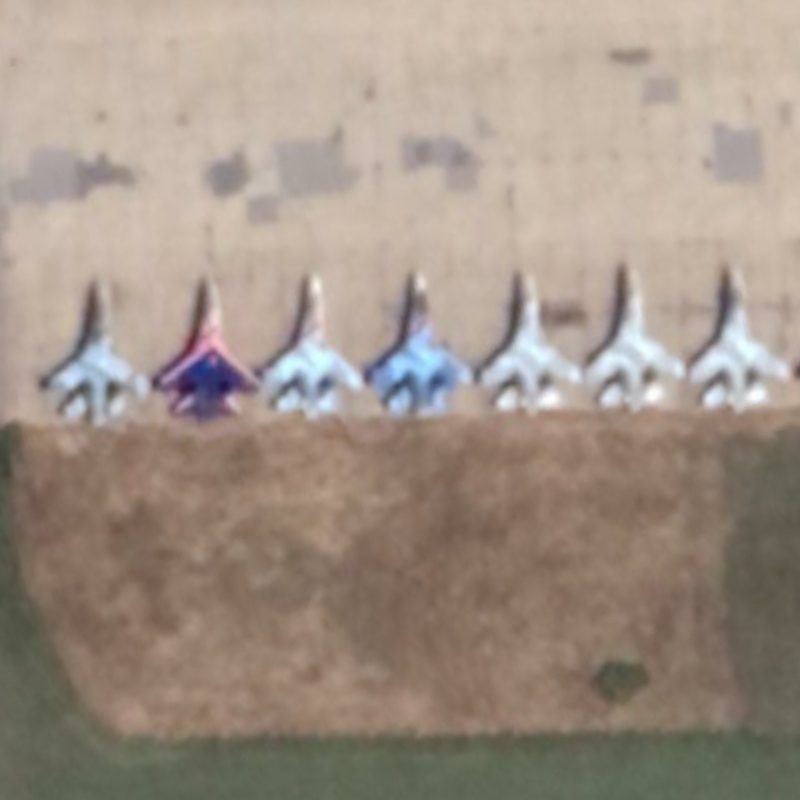A1: (153, 268, 264, 426), (367, 268, 477, 421), (584, 259, 690, 417), (478, 267, 586, 419), (46, 274, 153, 427), (263, 271, 367, 424), (690, 262, 794, 415)
